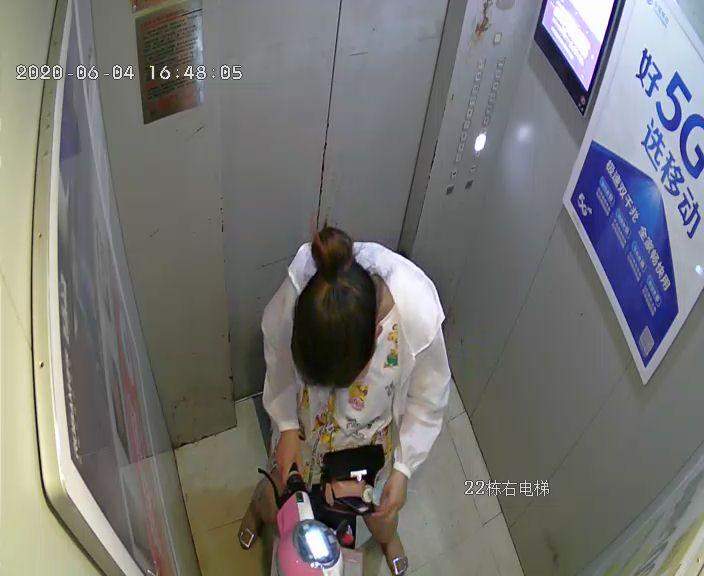Electric-bicycle: (236, 439, 399, 575)
